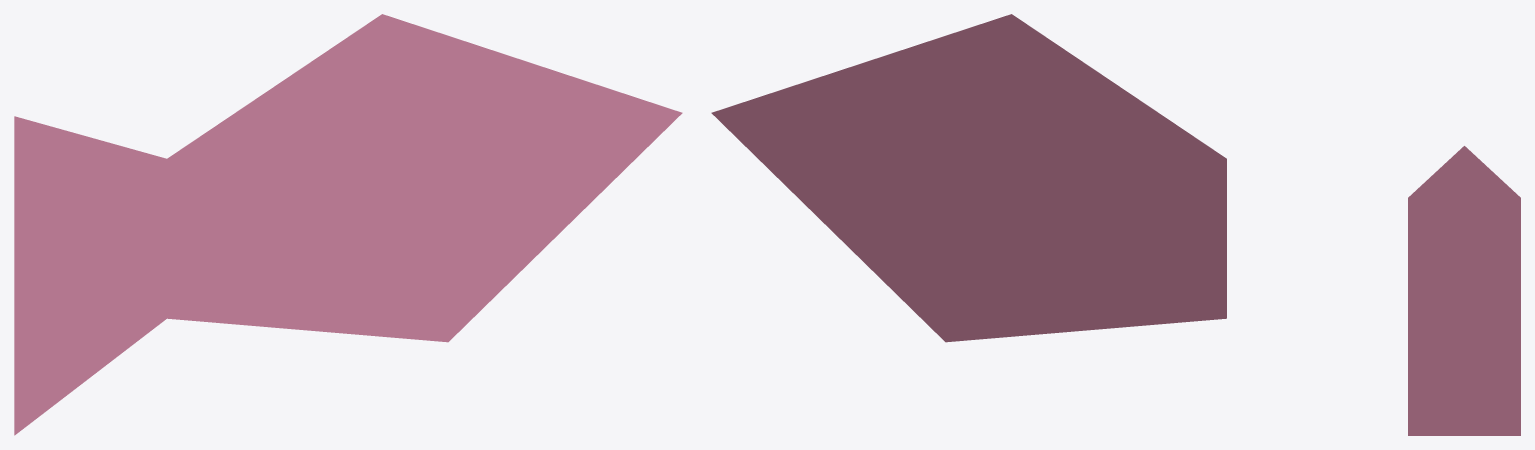
File: fish-pink.glb
3 renders of one model, left to right at view 1: azimuth 30°, elevation 25°; view 2: azimuth 150°, elevation 25°; view 3: azimuth 270°, elevation 25°, orthographic. The views are drawn at different scales.
Parts seen in each view (by area): view 1: FishPink; view 2: FishPink; view 3: FishPink.
Part boxes in pixels (x1,y1,x2,y2): FishPink: (14,14,682,435); FishPink: (711,14,1226,342); FishPink: (1408,146,1520,435).
Bounding box in the file's own units: 1.75 × 0.8 × 0.3.
